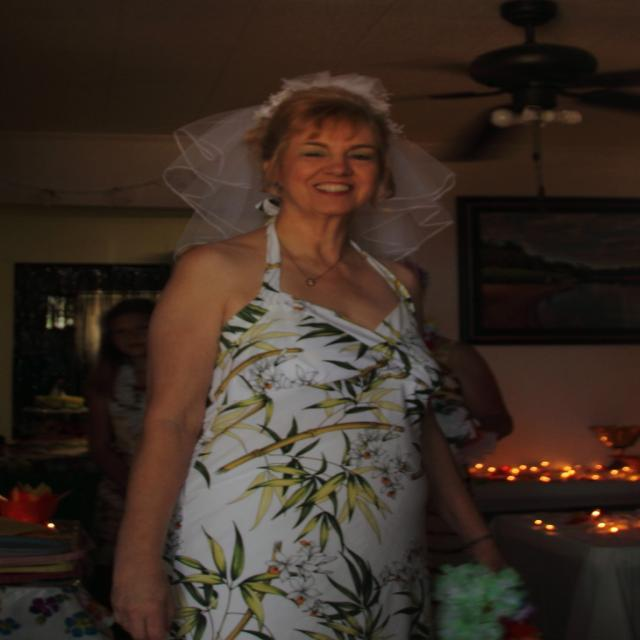bulb_off: (483, 112, 515, 128)
fan_on: (359, 0, 640, 167)
